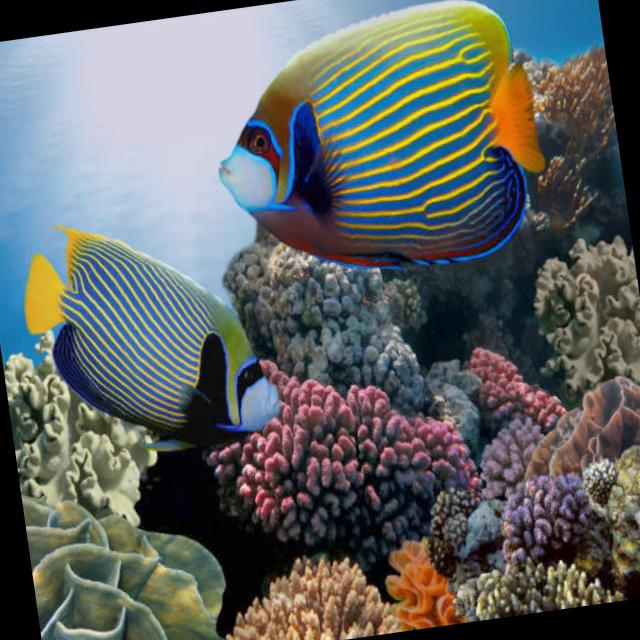AngelFish: (202, 0, 562, 296), (12, 195, 288, 462)
